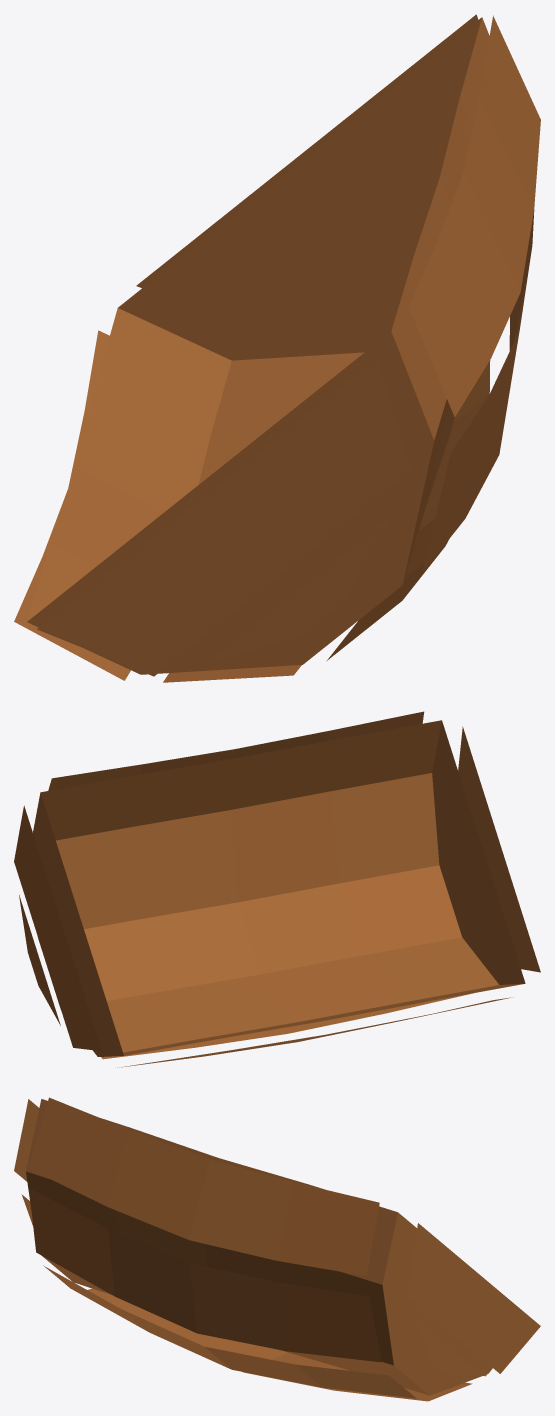
File: n2_chest_top_light_brown_0_lev2.003.glb
The picture shows the model from 3 angles, top to bottom: view 1: azimuth 30°, elevation 25°; view 2: azimuth 150°, elevation 25°; view 3: azimuth 270°, elevation 25°; orthographic projection. The views are drawn at different scales.
Parts seen in each view (by area): view 1: n2_chest_top_light_brown_0_lev2.003; view 2: n2_chest_top_light_brown_0_lev2.003; view 3: n2_chest_top_light_brown_0_lev2.003.
Boxes of the visible parts, x1,y1,x2,y2 form: n2_chest_top_light_brown_0_lev2.003: (14, 14, 540, 682); n2_chest_top_light_brown_0_lev2.003: (14, 711, 540, 1067); n2_chest_top_light_brown_0_lev2.003: (14, 1097, 540, 1401).
Bounding box in the file's own units: 1.68 × 0.9515 × 1.86.
